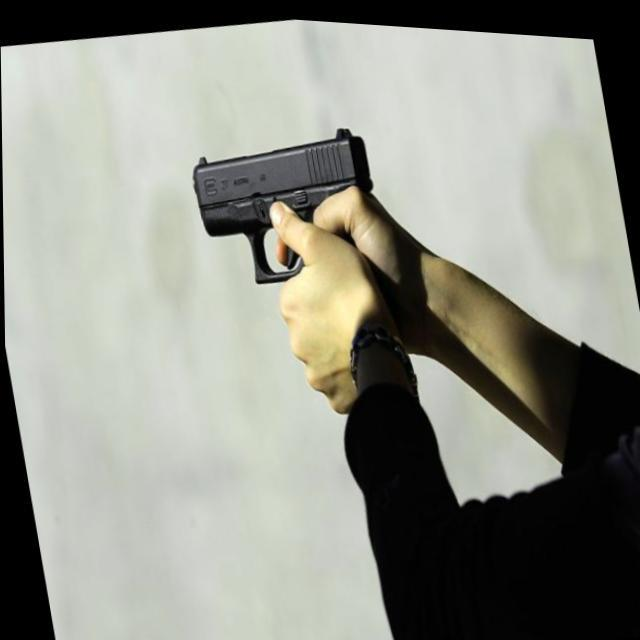weapon: (184, 110, 388, 296)
